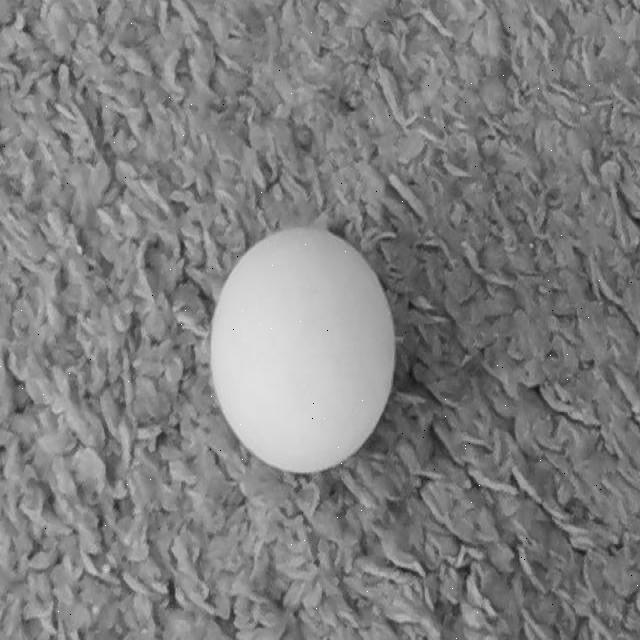ping-pong-ball: (209, 234, 394, 472)
